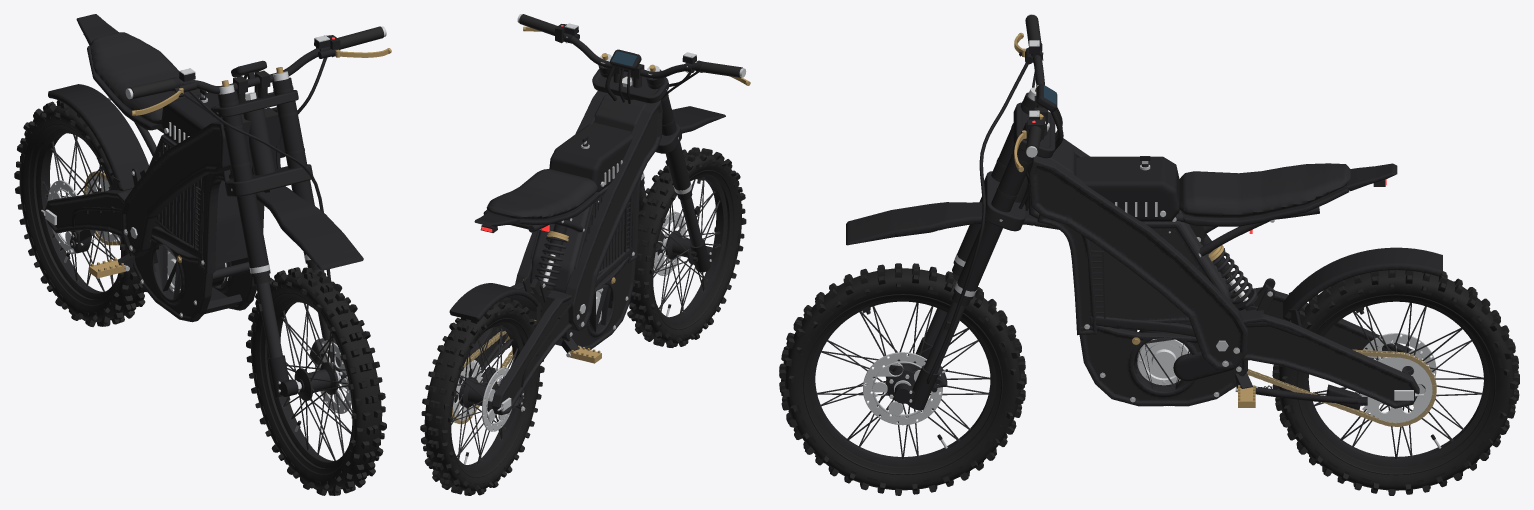
The model's file is SurRonBlack.fbx.
The picture shows the model from 3 angles, left to right: view 1: azimuth 30°, elevation 25°; view 2: azimuth 150°, elevation 25°; view 3: azimuth 270°, elevation 25°; orthographic projection. The views are drawn at different scales.
Parts seen in each view (by area): view 1: SurRonBlack_FrontWheel_rubber, SurRonBlack_Steering_black, SurRonBlack_RearWheel_rubber, SurRonBlack_Body_frame3, SurRonBlack_Body_seat, SurRonBlack_Steering_rim, SurRonBlack_Swingarm_black, SurRonBlack_Body_frame6, SurRonBlack_Body_black, SurRonBlack_Swingarm_frame2, SurRonBlack_FrontWheel_spoke, SurRonBlack_RearWheel_rim (+17 smaller); view 2: SurRonBlack_RearWheel_rubber, SurRonBlack_FrontWheel_rubber, SurRonBlack_Body_frame3, SurRonBlack_Body_black, SurRonBlack_Steering_black, SurRonBlack_Swingarm_frame2, SurRonBlack_Body_seat, SurRonBlack_Body_frame6, SurRonBlack_Steering_rim, SurRonBlack_Swingarm_black, SurRonBlack_FrontWheel_spoke, SurRonBlack_FrontWheel_rim (+21 smaller); view 3: SurRonBlack_FrontWheel_rubber, SurRonBlack_RearWheel_rubber, SurRonBlack_Body_frame2, SurRonBlack_Steering_black, SurRonBlack_Body_black, SurRonBlack_Body_seat, SurRonBlack_Swingarm_frame, SurRonBlack_Body_frame5, SurRonBlack_Body_panel, SurRonBlack_Swingarm_black, SurRonBlack_FrontWheel_rim, SurRonBlack_RearWheel_rim (+18 smaller).
Part boxes in pixels (<box>): SurRonBlack_FrontWheel_rubber: <box>246,267,386,495</box>; SurRonBlack_Steering_black: <box>170,35,363,397</box>; SurRonBlack_RearWheel_rubber: <box>14,100,146,326</box>; SurRonBlack_Body_frame3: <box>121,121,230,257</box>; SurRonBlack_Body_seat: <box>90,32,206,124</box>; SurRonBlack_Steering_rim: <box>179,46,330,196</box>; SurRonBlack_Swingarm_black: <box>48,84,148,236</box>; SurRonBlack_Body_frame6: <box>128,235,213,322</box>; SurRonBlack_Body_black: <box>76,14,242,313</box>; SurRonBlack_Swingarm_frame2: <box>45,168,147,241</box>; SurRonBlack_FrontWheel_spoke: <box>280,303,352,461</box>; SurRonBlack_RearWheel_rim: <box>36,129,116,299</box>; SurRonBlack_RearWheel_rubber: <box>420,297,544,495</box>; SurRonBlack_FrontWheel_rubber: <box>627,147,746,347</box>; SurRonBlack_Body_frame3: <box>565,100,662,331</box>; SurRonBlack_Body_black: <box>474,122,632,345</box>; SurRonBlack_Steering_black: <box>555,24,725,272</box>; SurRonBlack_Swingarm_frame2: <box>491,277,572,415</box>; SurRonBlack_Body_seat: <box>486,169,597,219</box>; SurRonBlack_Body_frame6: <box>561,252,635,349</box>; SurRonBlack_Steering_rim: <box>563,33,695,153</box>; SurRonBlack_Swingarm_black: <box>449,283,561,385</box>; SurRonBlack_FrontWheel_spoke: <box>653,179,720,316</box>; SurRonBlack_FrontWheel_rim: <box>657,174,727,323</box>; SurRonBlack_FrontWheel_rubber: <box>779,263,1026,495</box>; SurRonBlack_RearWheel_rubber: <box>1272,270,1519,495</box>; SurRonBlack_Body_frame2: <box>1029,155,1247,370</box>; SurRonBlack_Steering_black: <box>846,39,1058,410</box>; SurRonBlack_Body_black: <box>1076,156,1397,386</box>; SurRonBlack_Body_seat: <box>1178,163,1350,217</box>; SurRonBlack_Swingarm_frame: <box>1242,314,1419,408</box>; SurRonBlack_Body_frame5: <box>1079,325,1247,406</box>; SurRonBlack_Body_panel: <box>1089,222,1223,326</box>; SurRonBlack_Swingarm_black: <box>1244,247,1442,410</box>; SurRonBlack_FrontWheel_rim: <box>809,298,996,466</box>; SurRonBlack_RearWheel_rim: <box>1302,298,1489,466</box>.
Size of the model in its own units: 0.8102 by 1.16 by 1.88.
